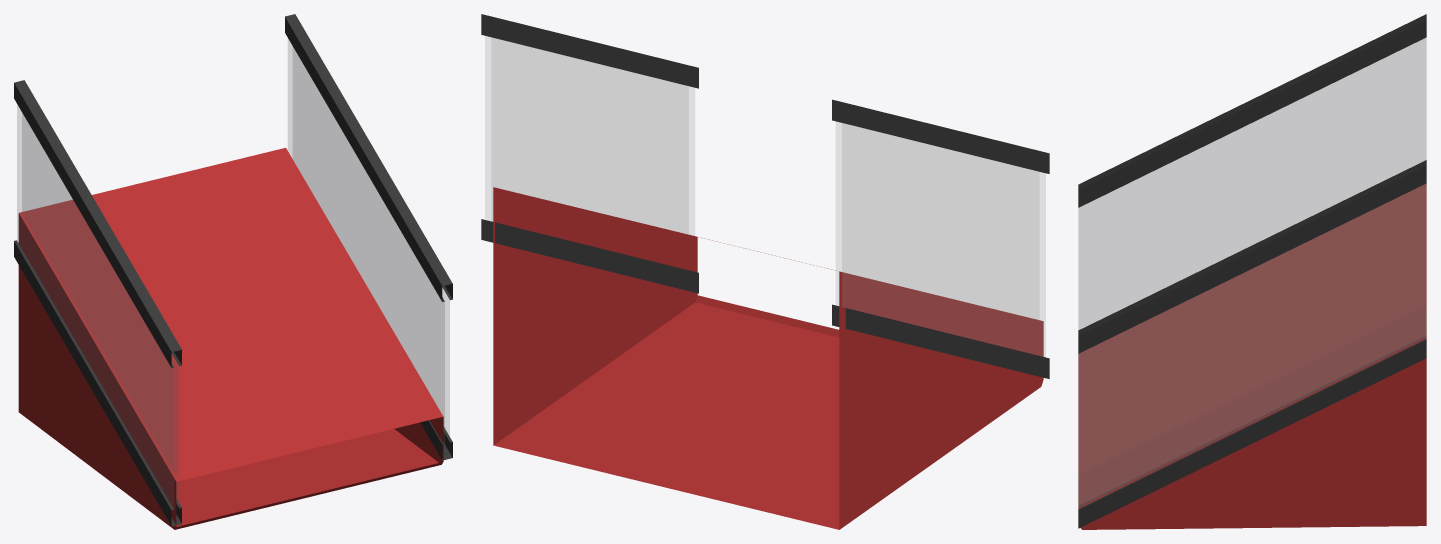
Rendered from Escalator_Mid.fbx.
The picture shows the model from 3 angles, left to right: view 1: azimuth 30°, elevation 25°; view 2: azimuth 150°, elevation 25°; view 3: azimuth 270°, elevation 25°; orthographic projection. The views are drawn at different scales.
Parts seen in each view (by area): view 1: Würfel_2, Würfel_4, Würfel_3, Würfel, Würfel_1; view 2: Würfel_2, Würfel_4, Würfel_3, Würfel_1, Würfel; view 3: Würfel_2, Würfel_3, Würfel_4, Würfel_1, Würfel.
Boxes of the visible parts, x1,y1,x2,y2 form: Würfel_2: [18, 147, 443, 529]; Würfel_4: [17, 105, 178, 507]; Würfel_3: [288, 39, 449, 441]; Würfel: [14, 80, 181, 526]; Würfel_1: [285, 14, 452, 460]; Würfel_2: [493, 187, 1043, 529]; Würfel_4: [836, 122, 1045, 356]; Würfel_3: [485, 36, 694, 235]; Würfel_1: [481, 14, 698, 293]; Würfel: [832, 99, 1049, 378]; Würfel_2: [1078, 183, 1426, 529]; Würfel_3: [1078, 184, 1426, 508]; Würfel_4: [1078, 38, 1426, 329]; Würfel_1: [1078, 160, 1426, 528]; Würfel: [1078, 14, 1426, 207].
Size of the model in its own units: 135 by 153 by 131.
